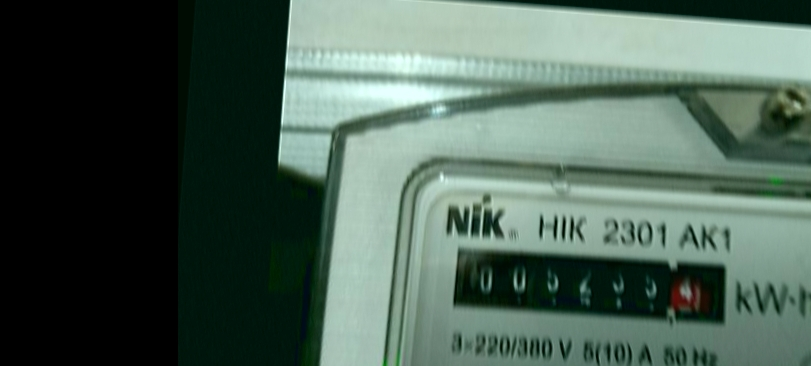0: (511, 261, 533, 295), (479, 262, 499, 294)
2: (577, 263, 600, 298)
3: (609, 263, 636, 298)
4: (678, 268, 702, 306)
5: (643, 265, 667, 302), (545, 261, 566, 295)
screen: (438, 230, 746, 340)
